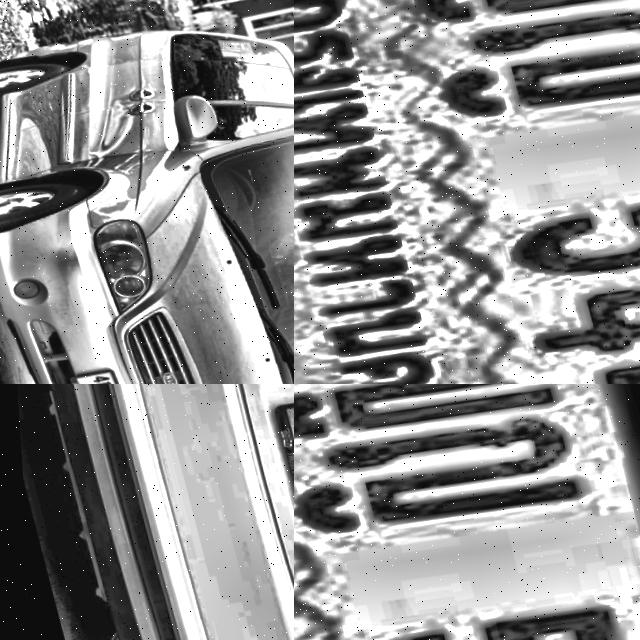license-plate: (294, 0, 640, 384), (294, 384, 640, 640), (267, 385, 294, 534), (60, 359, 131, 384)
